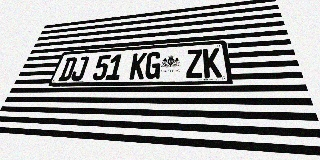1: (105, 54, 124, 80)
5: (92, 55, 111, 80)
D: (57, 57, 78, 81)
G: (144, 52, 162, 79)
J: (69, 56, 90, 81)
K: (203, 48, 222, 78), (129, 52, 147, 79)
Z: (186, 49, 203, 78)
